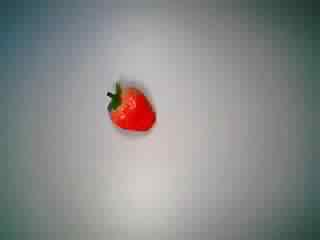strawberry: (95, 76, 161, 138)
